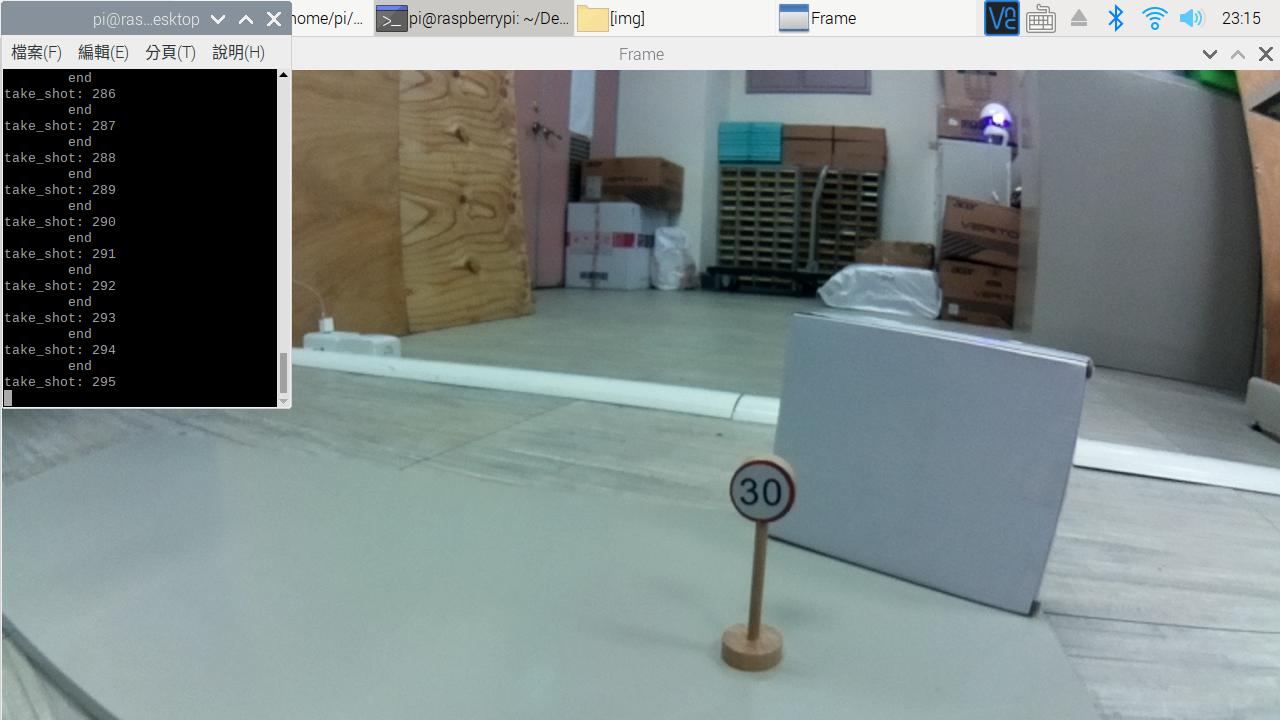Speed30: (706, 452, 831, 529)
